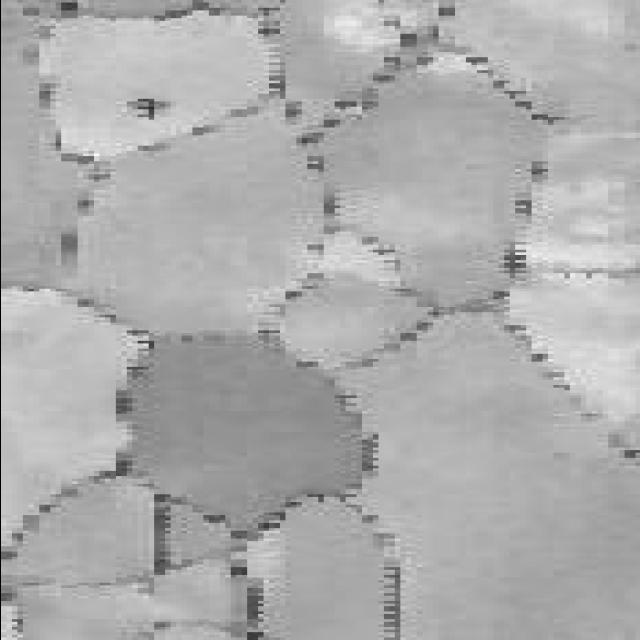good_void: (124, 97, 175, 121)
